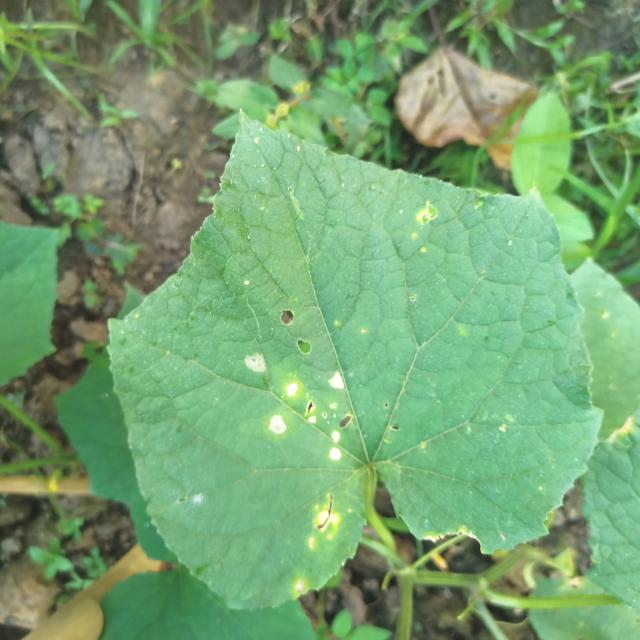disease_cucumber: (234, 345, 362, 474)
